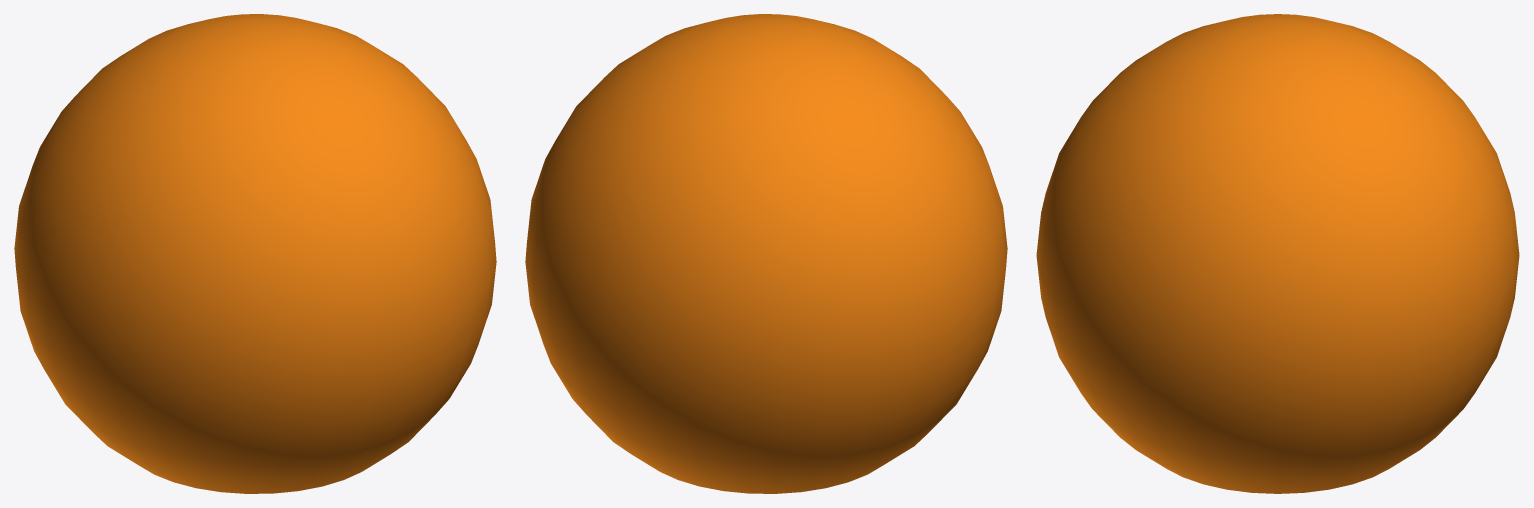
File: bulle2.FBX
3 renders of one model, left to right at view 1: azimuth 30°, elevation 25°; view 2: azimuth 150°, elevation 25°; view 3: azimuth 270°, elevation 25°, orthographic.
Visible parts, largest first — view 1: Sphère001; view 2: Sphère001; view 3: Sphère001.
Boxes of the visible parts, bbox=[...] form: Sphère001: bbox=[14, 14, 496, 493]; Sphère001: bbox=[525, 14, 1007, 493]; Sphère001: bbox=[1036, 14, 1519, 493].
Bounding box in the file's own units: 331 × 303 × 331.
